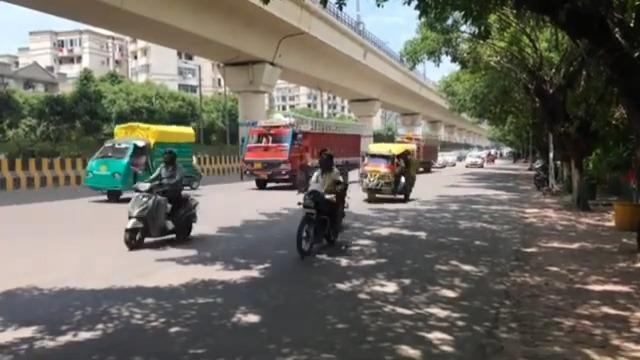Auto: (83, 121, 202, 201), (359, 141, 417, 202)
Bike: (123, 148, 199, 250), (295, 149, 350, 260)
Truck: (239, 114, 373, 190), (396, 130, 440, 172)
